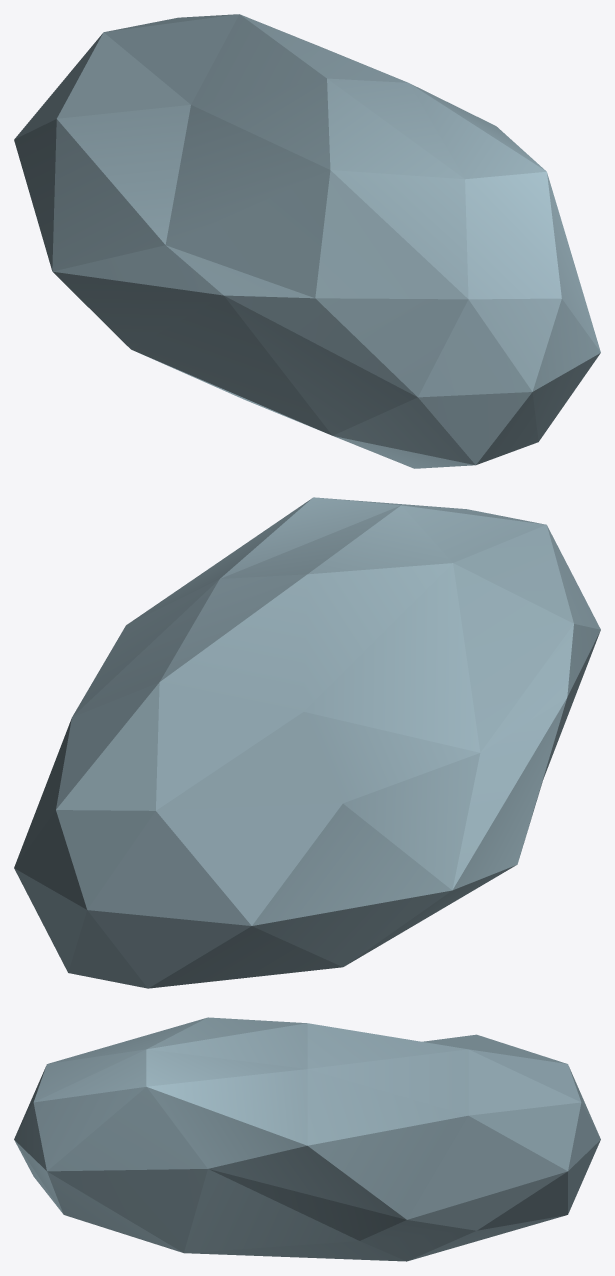
Rendered from SM_Snow_01.fbx.
3 views of the same model, one above another, from view 1: azimuth 30°, elevation 25°; view 2: azimuth 150°, elevation 25°; view 3: azimuth 270°, elevation 25° (orthographic). The views are drawn at different scales.
Visible parts, largest first — view 1: SM_Snow_01; view 2: SM_Snow_01; view 3: SM_Snow_01.
Boxes of the visible parts, left/top/right/bottom form: SM_Snow_01: left=14, top=14, right=600, bottom=468; SM_Snow_01: left=14, top=497, right=600, bottom=988; SM_Snow_01: left=14, top=1017, right=600, bottom=1261.
Size of the model in its own units: 240 by 185 by 457.
